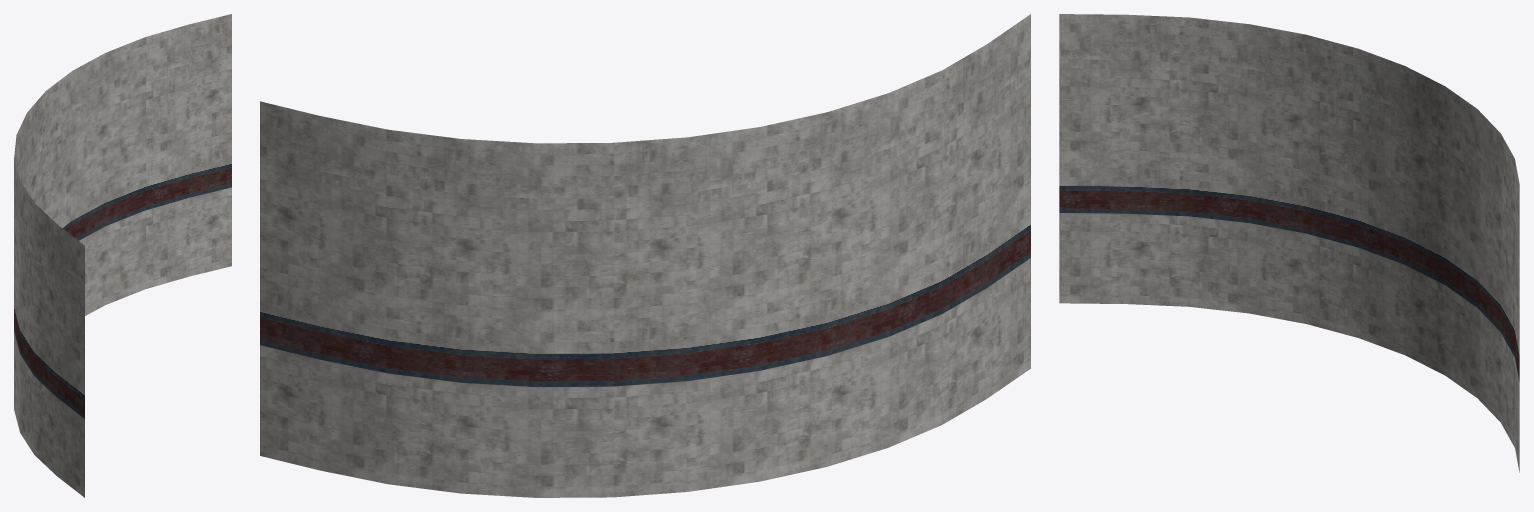
File: SM_Wall_Custom_Curve.glb
The picture shows the model from 3 angles, left to right: view 1: azimuth 30°, elevation 25°; view 2: azimuth 150°, elevation 25°; view 3: azimuth 270°, elevation 25°; orthographic projection. The views are drawn at different scales.
Visible parts, largest first — view 1: SM_Wall_Custom_Curve; view 2: SM_Wall_Custom_Curve; view 3: SM_Wall_Custom_Curve.
Boxes of the visible parts, left/top/right/bottom form: SM_Wall_Custom_Curve: left=14, top=14, right=231, bottom=497; SM_Wall_Custom_Curve: left=260, top=14, right=1030, bottom=497; SM_Wall_Custom_Curve: left=1059, top=14, right=1519, bottom=472.
Bounding box in the file's own units: 7.5 × 5.2 × 7.5.
2 materials, 2 textured.
